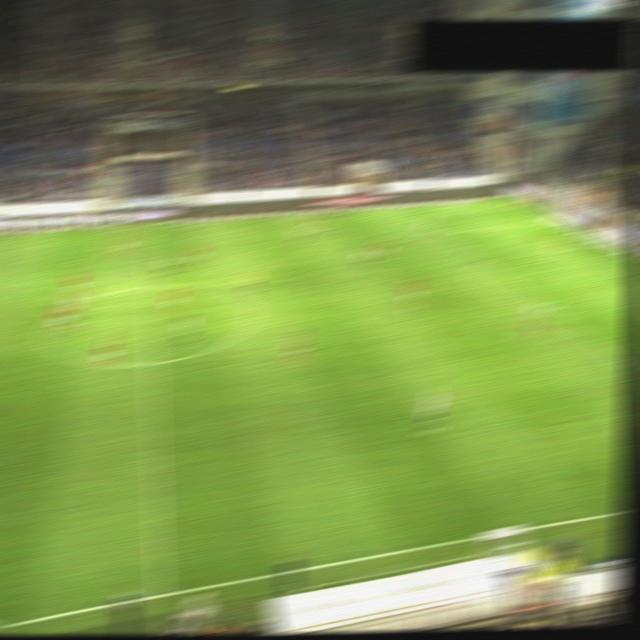bigarea_top_inner: (429, 225, 449, 237)
bigarea_top_outter: (542, 216, 563, 227)
bottom_arc_area_intersection: (537, 302, 558, 313)
corner: (495, 196, 515, 206)
halfcircle_bottom: (141, 356, 162, 368)
halfcircle_top: (140, 279, 161, 290)
midline_bottom_intersection: (146, 586, 170, 603)
midline_top_intersection: (138, 221, 158, 231)
smallarea_top_inner: (551, 244, 572, 254)
smallarea_top_outter: (589, 238, 610, 249)
top_arc_area_intersection: (470, 254, 492, 265)
